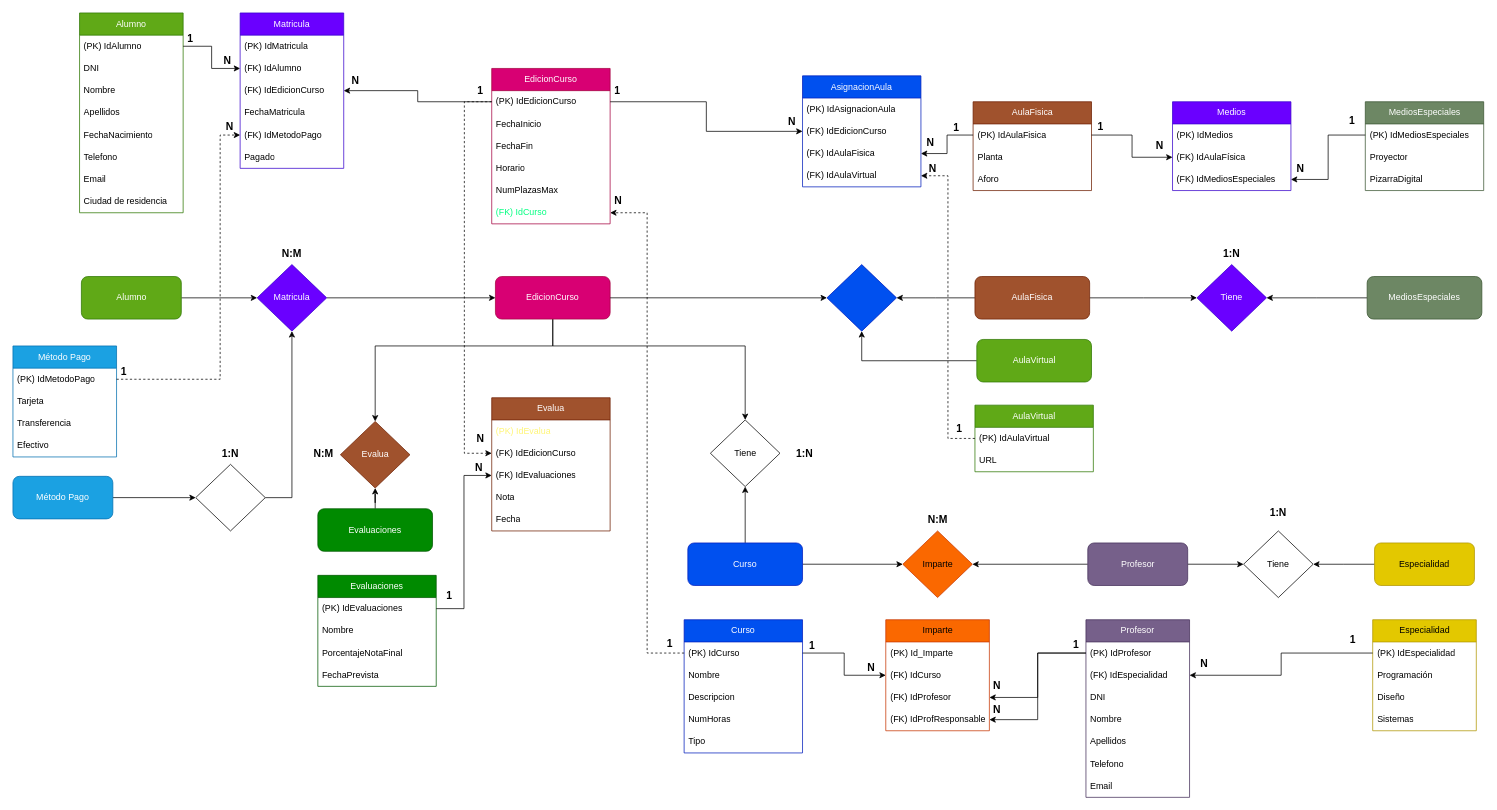
Image size: 1497x810. Some labels were removed from this diagram. The shapes that lost their labels are listed below. From the top down, each one's box as (x1, y1, x2, y2) in pixels, then its label:
(826, 264, 897, 331): Asigna
(195, 464, 265, 531): utiliza
